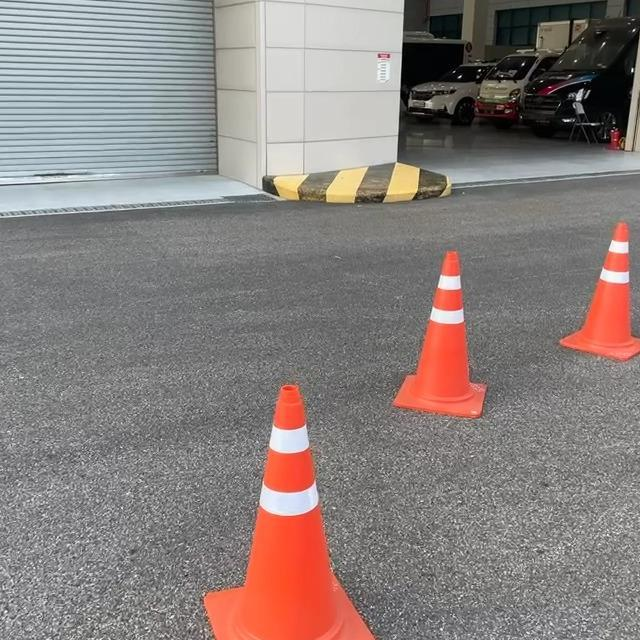fallen_object: (200, 395, 409, 640), (370, 258, 536, 448), (540, 216, 640, 381)
